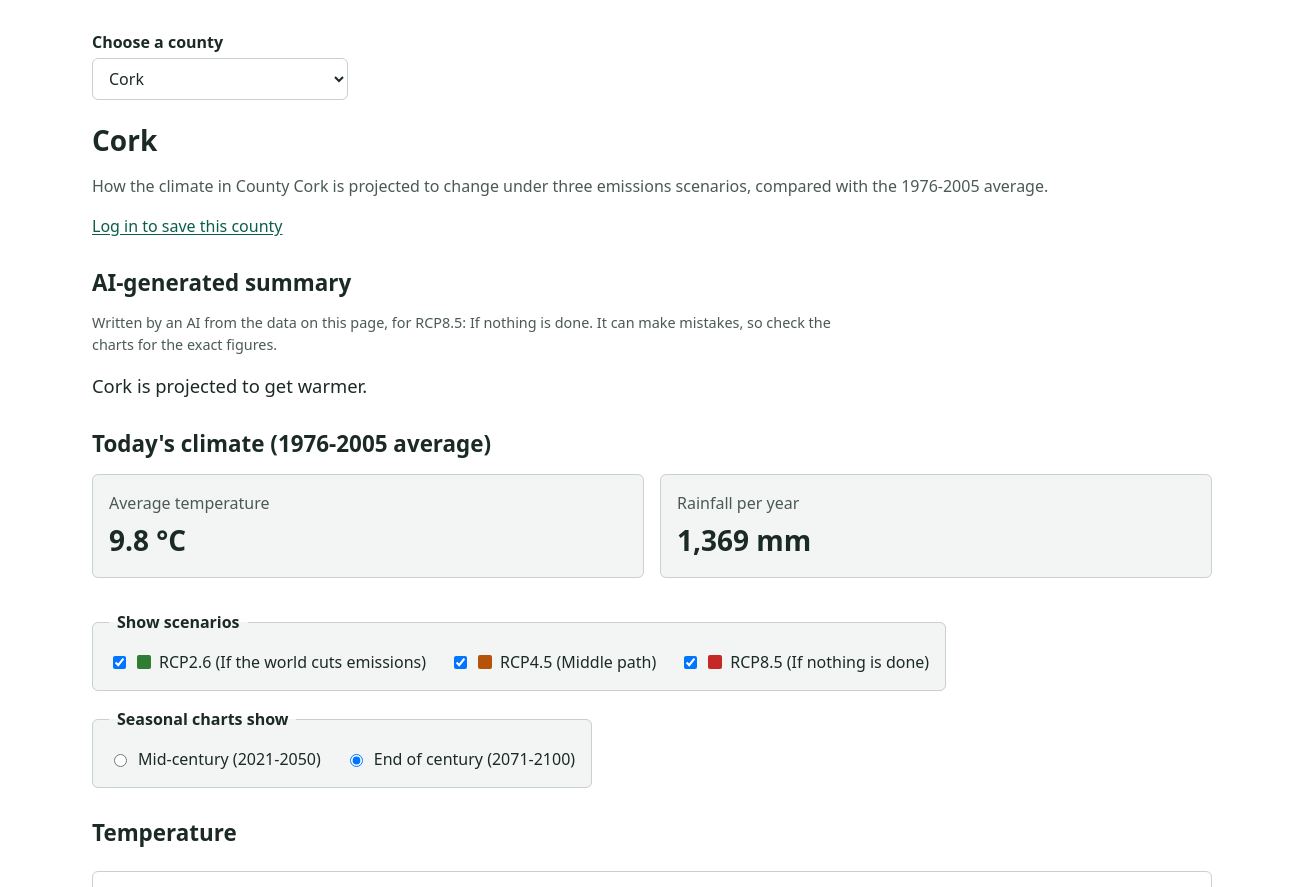
Test: CountyDashboard › writes the scenarios into the URL when a box is unticked (CCD-406)
Expected: the heading "Cork" is shown, [92,121,157,159]
Step 1. Click the checkbox labelled "RCP4.5 (Middle path)" → (460, 662), box [454,656,467,669]
(page scrolled)
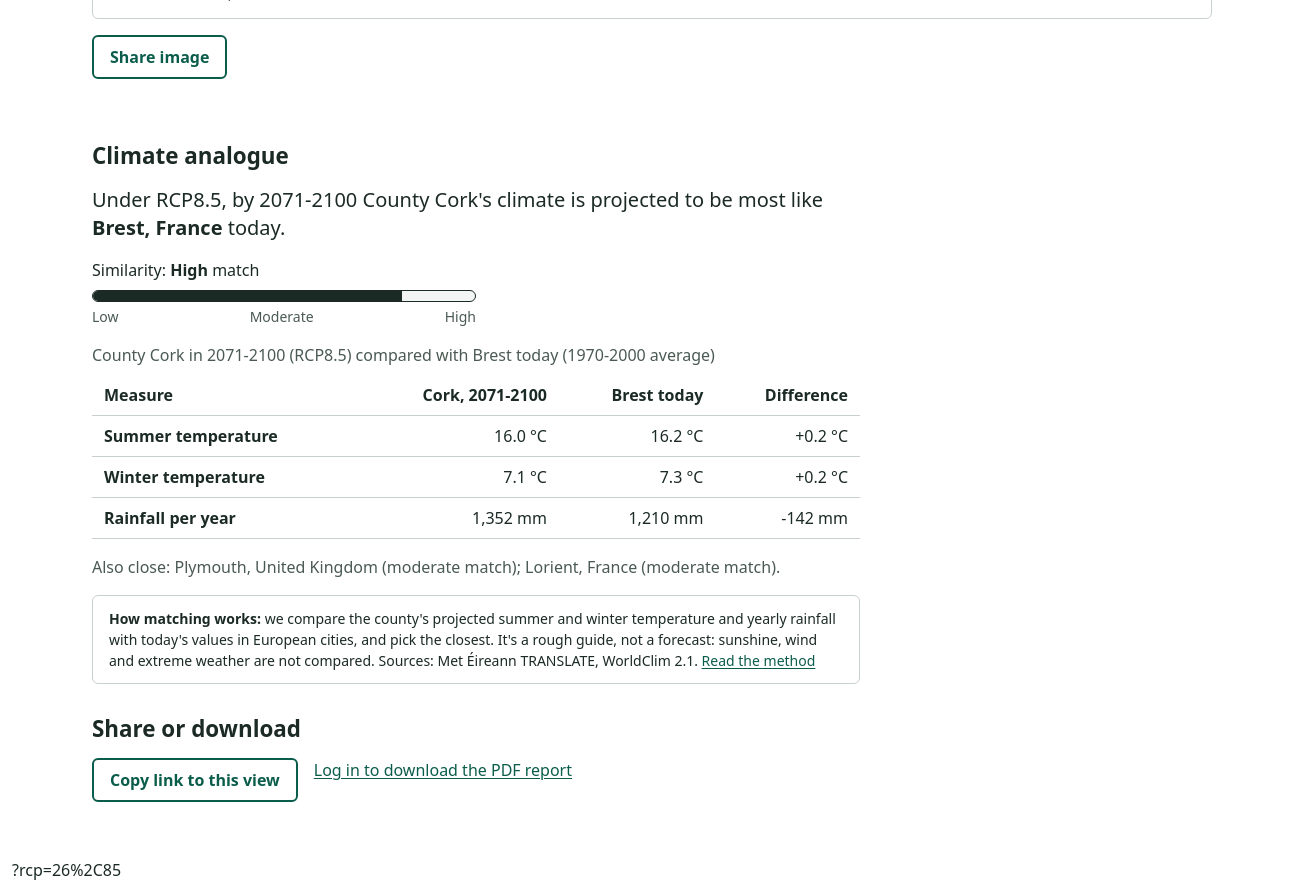
Expected: the text with test id "current-search" reads "?rcp=26%2C85", [12,860,121,882]
